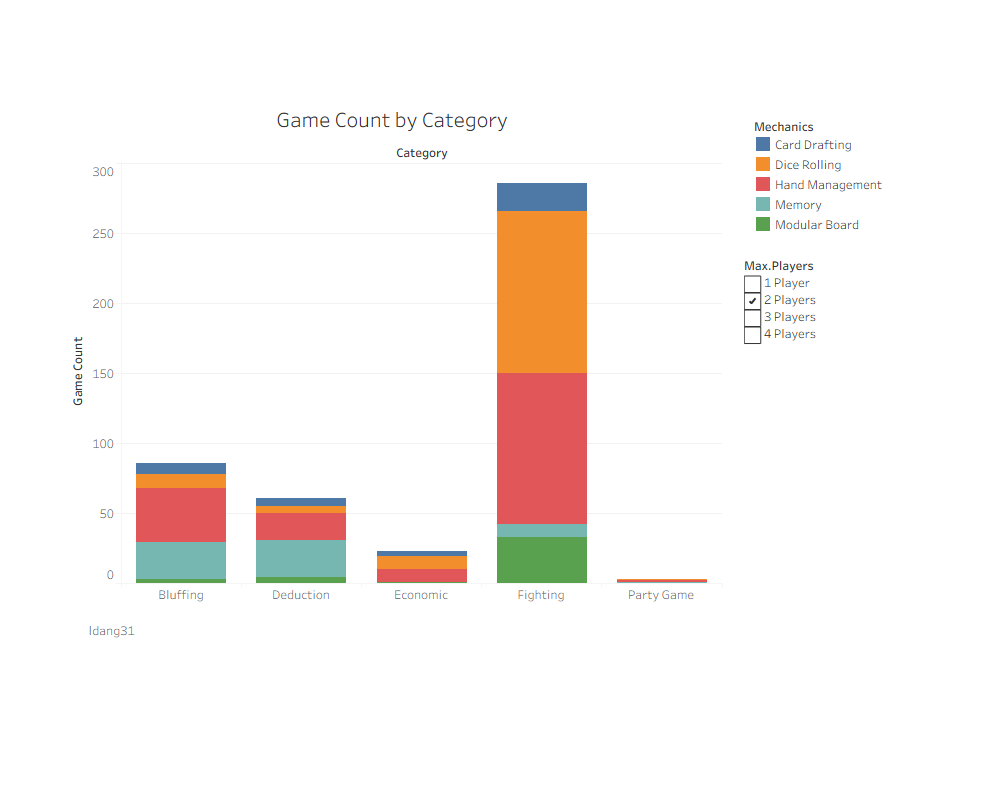

The dashboard page shown, as its layout file describes it:
{"tool":"tableau","page":{"name":"stacked_barchart_1","canvas":[1000,800],"ordinal":1},"visuals":[{"type":"worksheet","title":"1.3.1","mark":"Automatic","rows":["Category"],"cols":["Category"],"box":[62,99,660,524]},{"type":"legend","title":"1.3.1","param":"[federated.1u0y7j60c0gayl10vzvkh11mzvba].[none:Mechanics:nk]","box":[753,116,140,118]},{"type":"filter","title":"1.3.1","param":"[federated.1u0y7j60c0gayl10vzvkh11mzvba].[none:Max.Players:nk]","box":[744,256,160,119]},{"type":"text","box":[86,615,100,30]}]}

Visuals, with their boxes in screenshot pixels (x1, y1, x2, y2), scaled from the page's 1000x800 canvas onto the 1000x800 screenshot:
"1.3.1" worksheet: bbox(62, 99, 722, 623)
"1.3.1" legend: bbox(753, 116, 893, 234)
"1.3.1" filter: bbox(744, 256, 904, 375)
text: bbox(86, 615, 186, 645)
